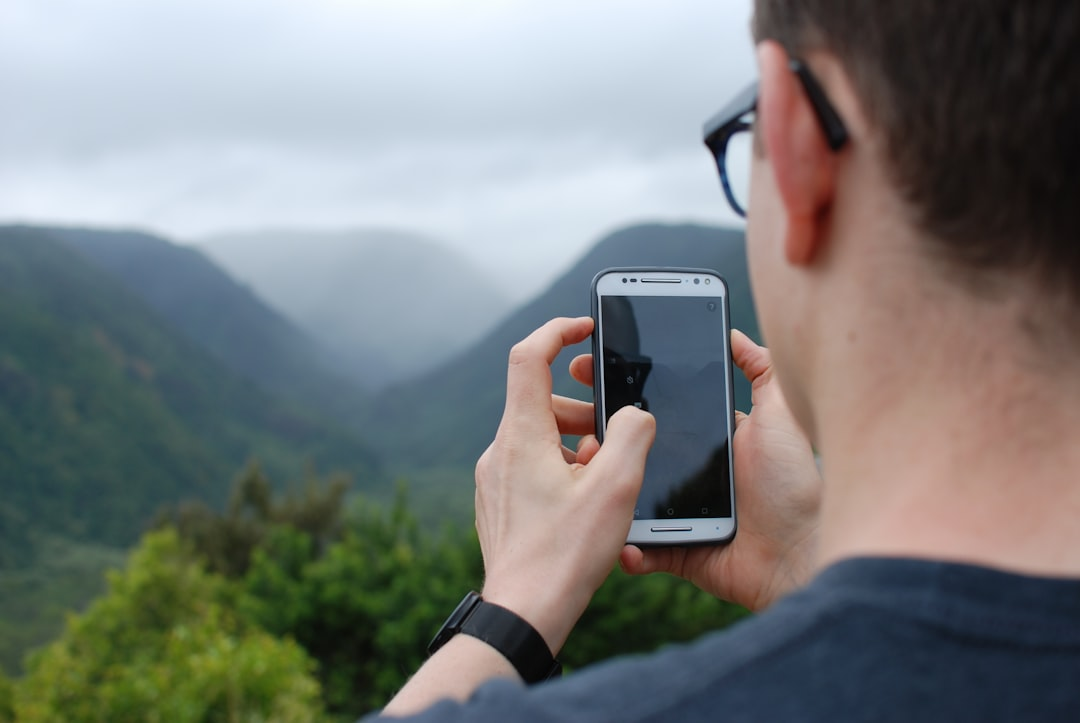phone: (590, 267, 736, 549)
